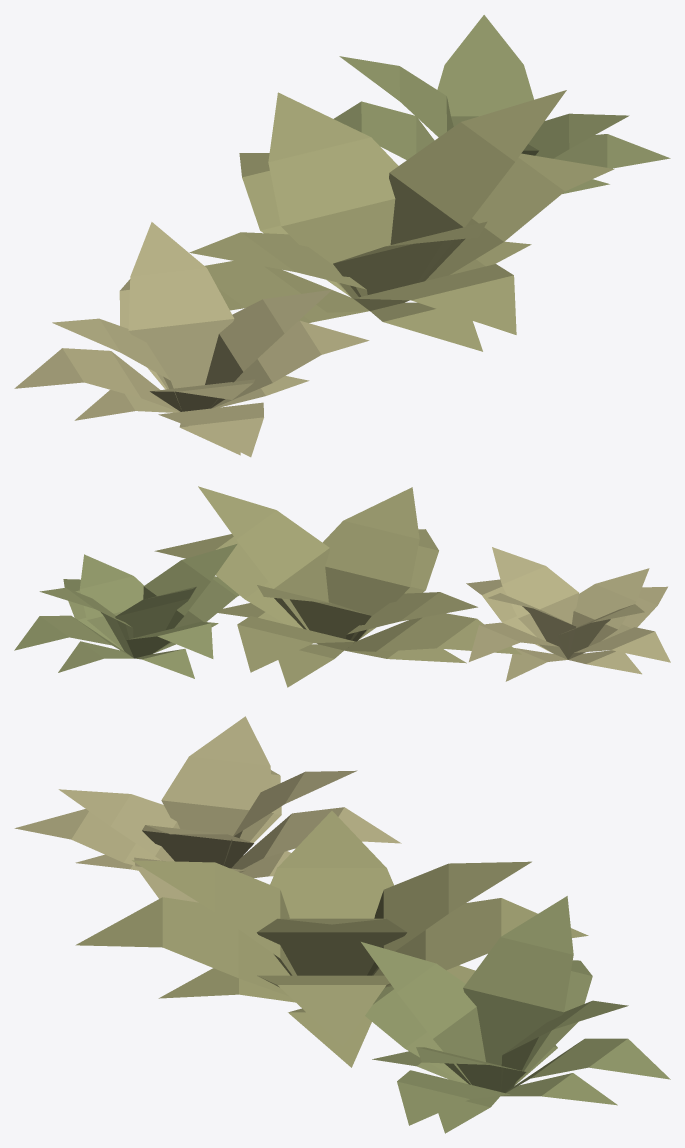
File: veg_dry_scrub.glb
3 renders of one model, top to bottom at view 1: azimuth 30°, elevation 25°; view 2: azimuth 150°, elevation 25°; view 3: azimuth 270°, elevation 25°, orthographic. The views are drawn at different scales.
Visible parts, largest first — view 1: clump_0, clump_1, clump_2; view 2: clump_0, clump_2, clump_1; view 3: clump_0, clump_2, clump_1.
Boxes of the visible parts, x1,y1,x2,y2 form: clump_0: (189, 90, 614, 351); clump_1: (14, 222, 369, 457); clump_2: (334, 15, 670, 193); clump_0: (154, 486, 521, 687); clump_2: (14, 544, 239, 678); clump_1: (466, 547, 670, 681); clump_0: (75, 811, 588, 1067); clump_2: (361, 896, 670, 1133); clump_1: (14, 716, 401, 902).
Size of the model in its own units: 1.1 by 0.2343 by 0.8472.
